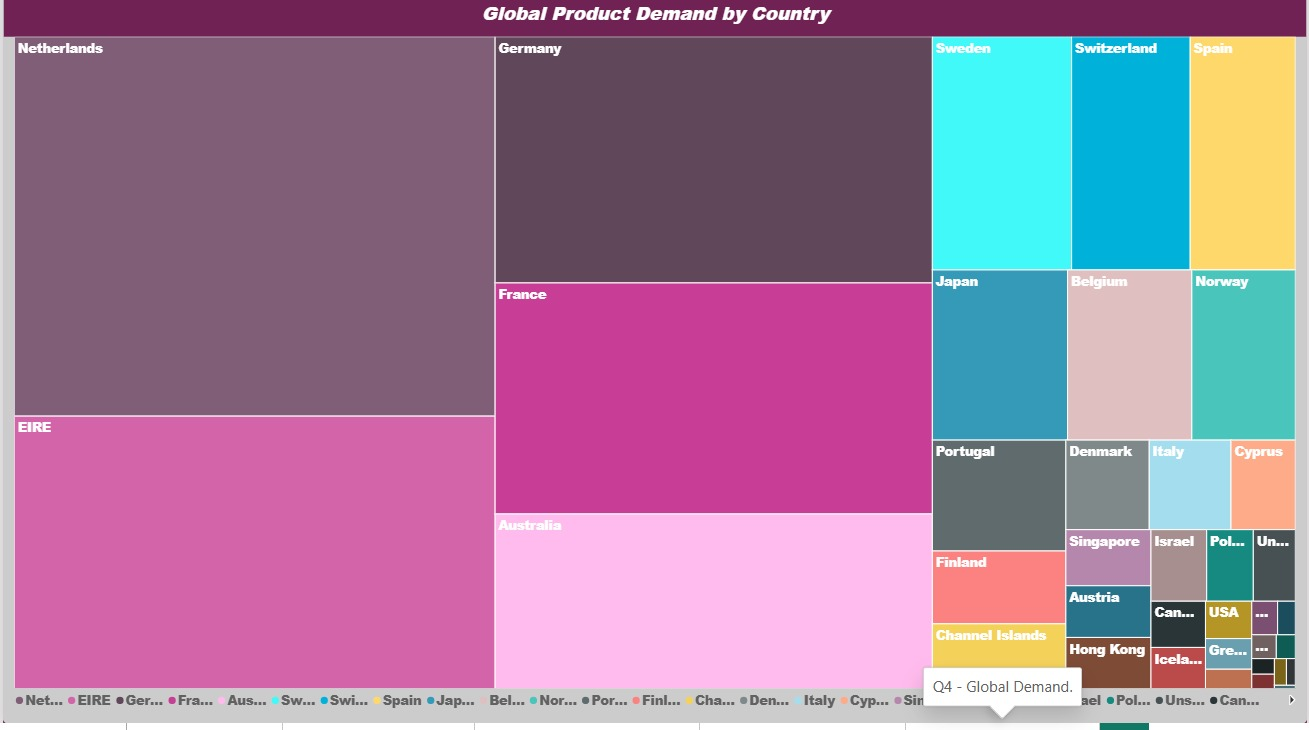

The dashboard page shown, as its layout file describes it:
{"tool":"powerbi","page":{"name":"Q4 - Global Demand.","canvas":[1920,1080],"ordinal":4},"visuals":[{"type":"treemap","title":"Global Product Demand by Country","fields":{"Group":["Online Retail.Country"],"Values":["Online Retail.Total Quantity"]},"box":[0,0,1920,1080],"z":0}]}

Visuals, with their boxes in screenshot pixels (x1, y1, x2, y2), scaled from the page's 1920x1080 canvas onto the 1309x730 screenshot:
"Global Product Demand by Country" treemap: 0/0/1308/729
